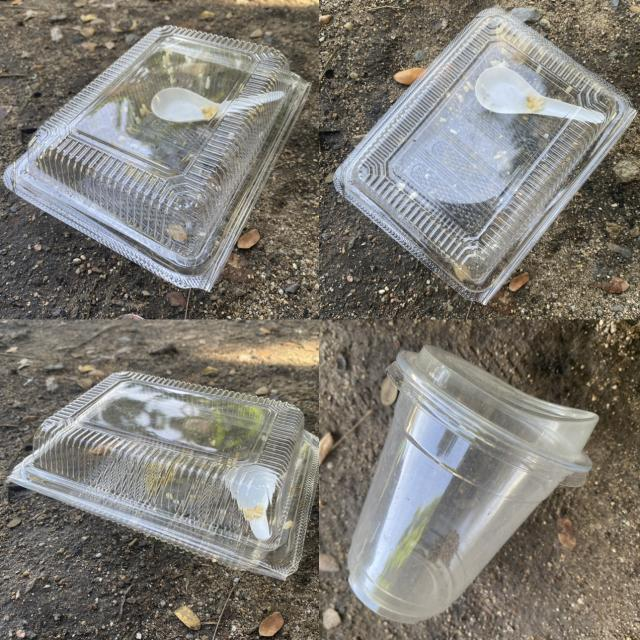plastik: (334, 8, 636, 304), (3, 26, 310, 289), (348, 346, 598, 623), (8, 372, 318, 579), (475, 67, 605, 123), (152, 88, 285, 121), (226, 465, 277, 540)
